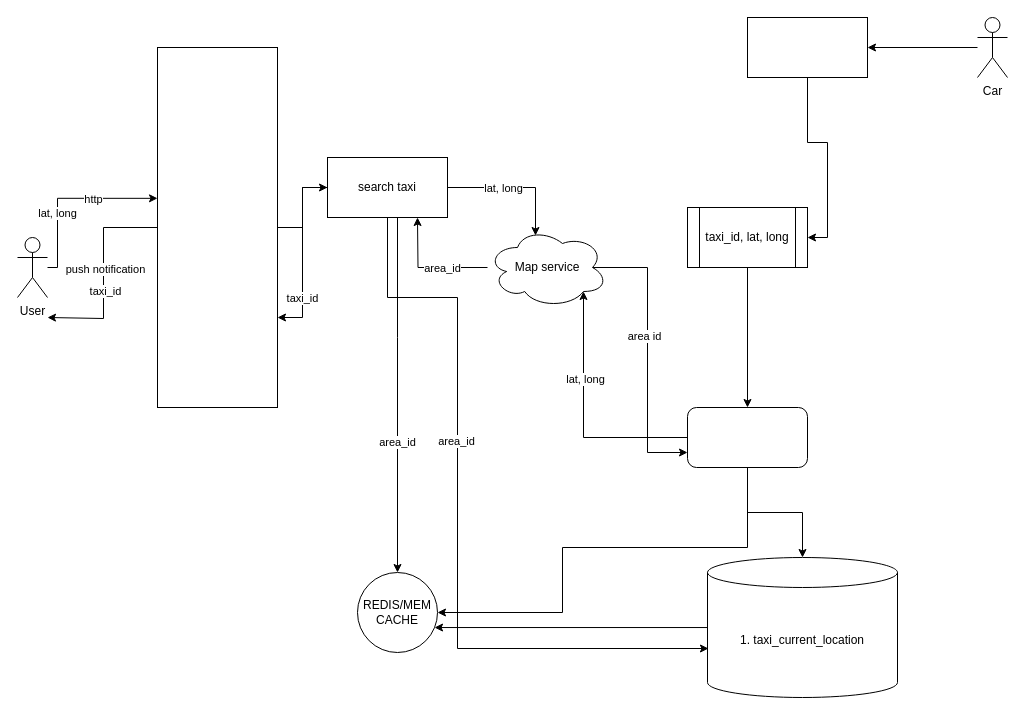
This 1025x715 diagram has some shape labels left out. The shapes that lost their labels are listed below. From the top down, each one's centre as x and y in pixels, then its label:
At point 807,47: "GPS tracker".
At point 217,227: "API Gateway".
At point 747,437: "taxi location consumer".
